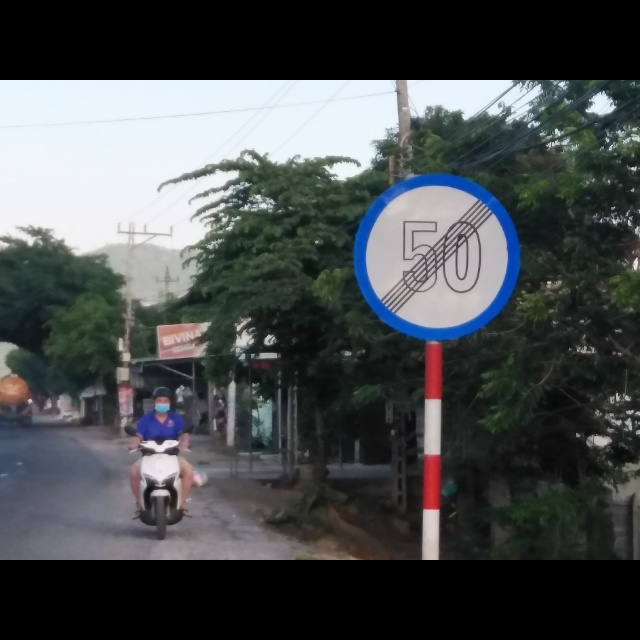Hết hạn chế tốc độ tối đa 50km/h: (350, 165, 522, 339)
